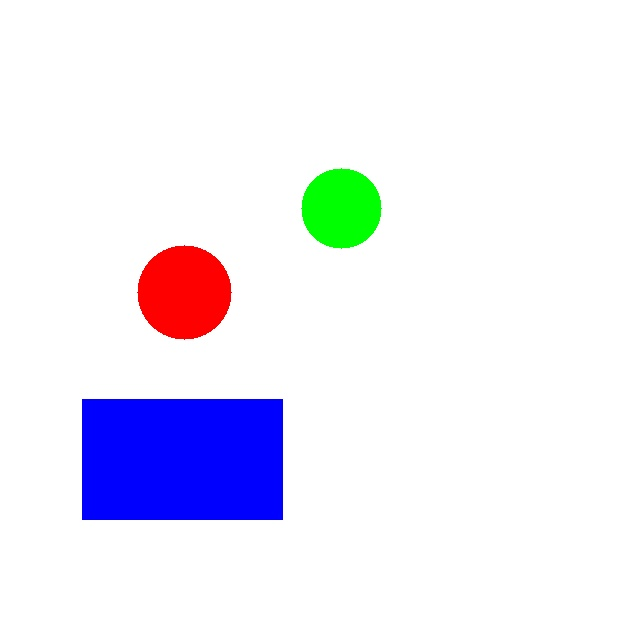cartao: (82, 399, 282, 519)
rosca_externa: (301, 168, 381, 248)
rosca_interna: (137, 245, 231, 339)
